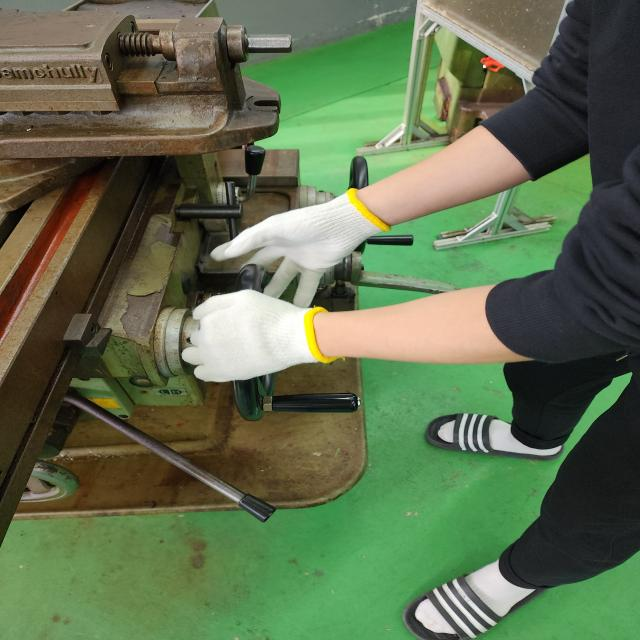Boots: (212, 185, 390, 284), (183, 289, 334, 382)
